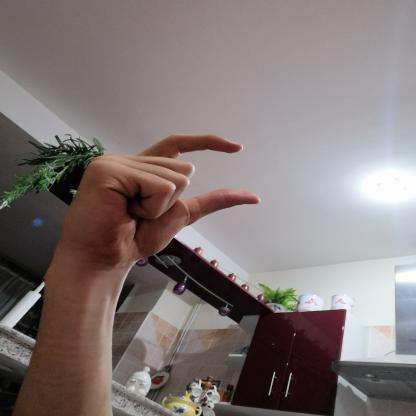DELL: (40, 122, 271, 283)
